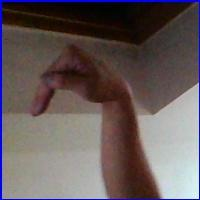A: (26, 39, 127, 127)
